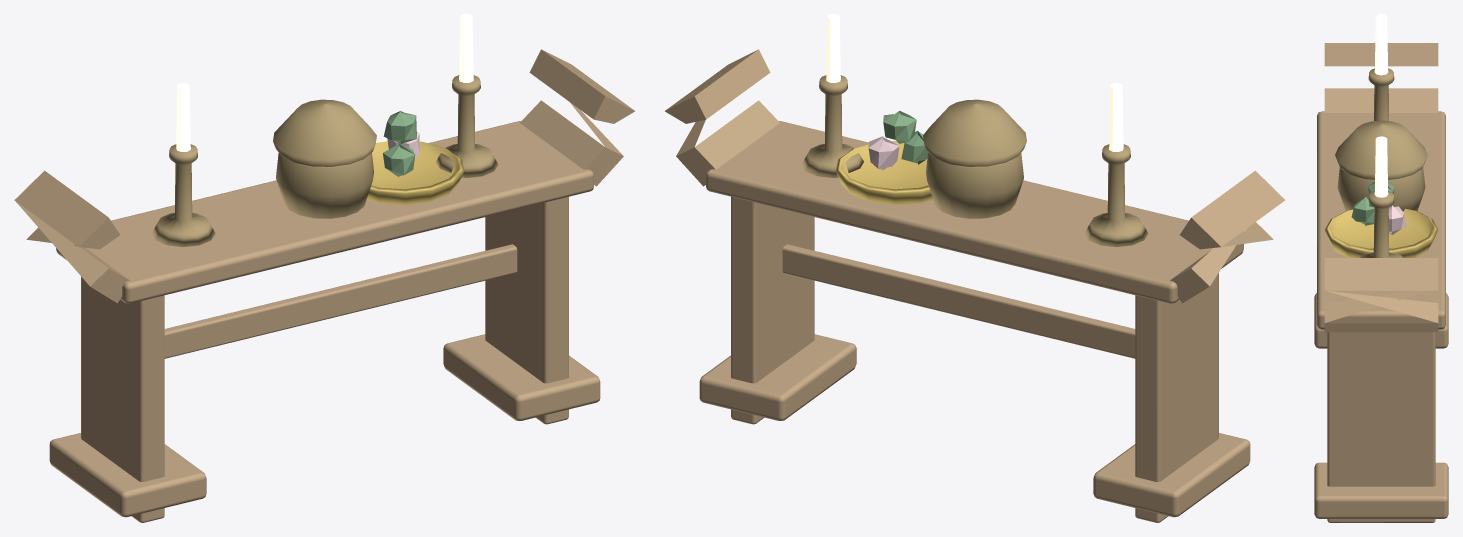
The model's file is altar-table.glb.
3 renders of one model, left to right at view 1: azimuth 30°, elevation 25°; view 2: azimuth 150°, elevation 25°; view 3: azimuth 270°, elevation 25°, orthographic. The views are drawn at different scales.
Parts seen in each view (by area): view 1: ancestral-altar-table; view 2: ancestral-altar-table; view 3: ancestral-altar-table.
Boxes of the visible parts, x1=… form: ancestral-altar-table: x1=14, y1=14, x2=634, y2=522; ancestral-altar-table: x1=665, y1=14, x2=1285, y2=522; ancestral-altar-table: x1=1314, y1=14, x2=1448, y2=522.
Bounding box in the file's own units: 2.21 × 1.51 × 0.5199.
